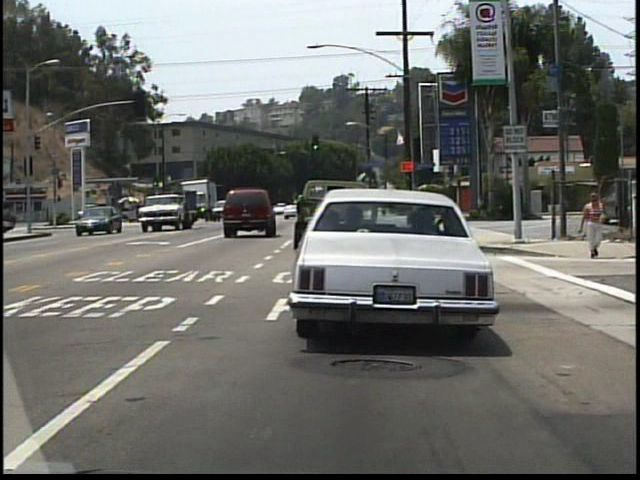person: (583, 190, 605, 258)
